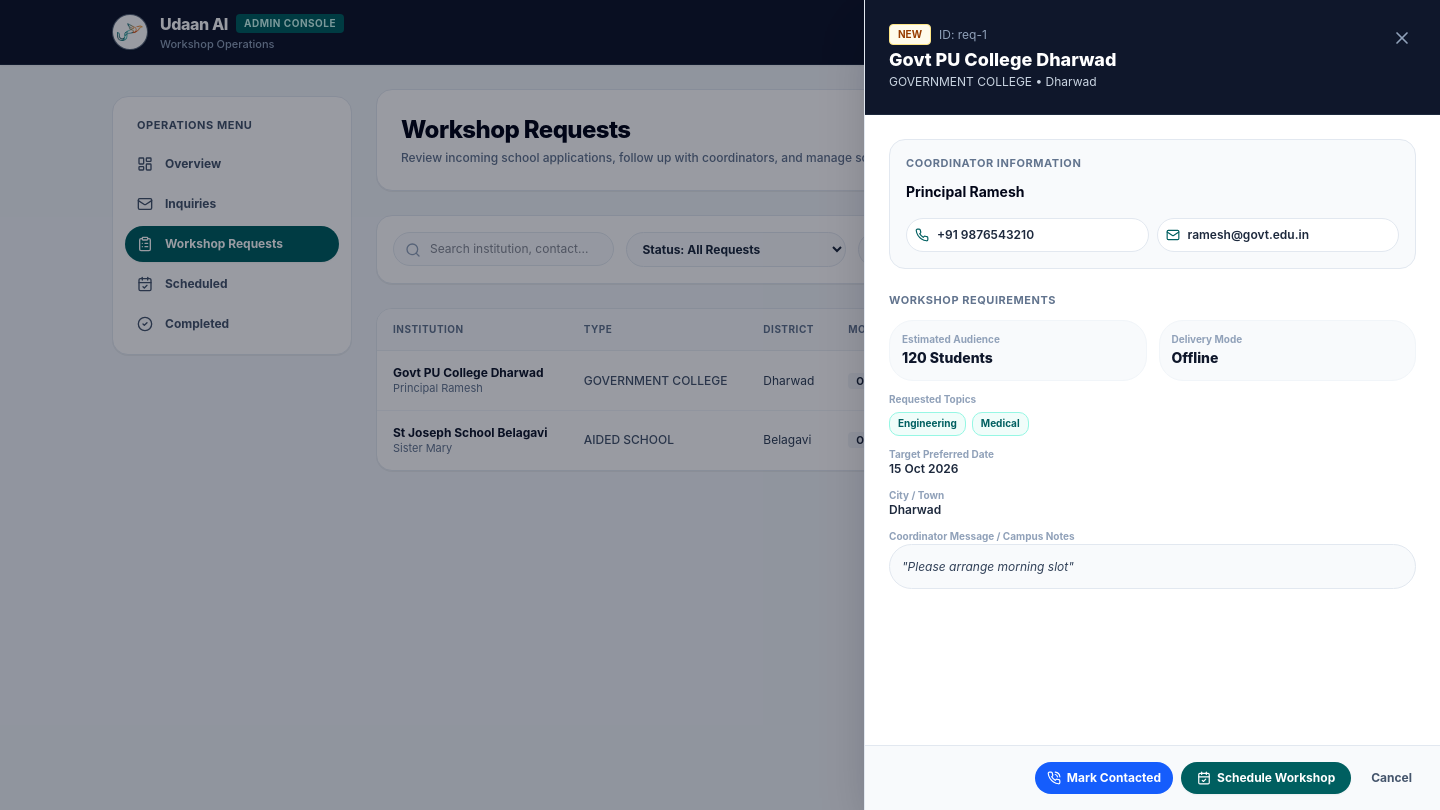
Test: AdminRequestsPage › ?open=<id> query resolution & drawer dismissal handling › with ?open=A, closing A then manually opening B must keep B open
Expected: the text "Coordinator Information" is shown, [906, 156, 1081, 170]
Expected: the text "Principal Ramesh" in the row of "1 Sept 2026" is shown, [393, 381, 483, 395]
Note: User closes req-1 (A)
Click the button named "close drawer": (1402, 38) [1388, 24, 1416, 52]
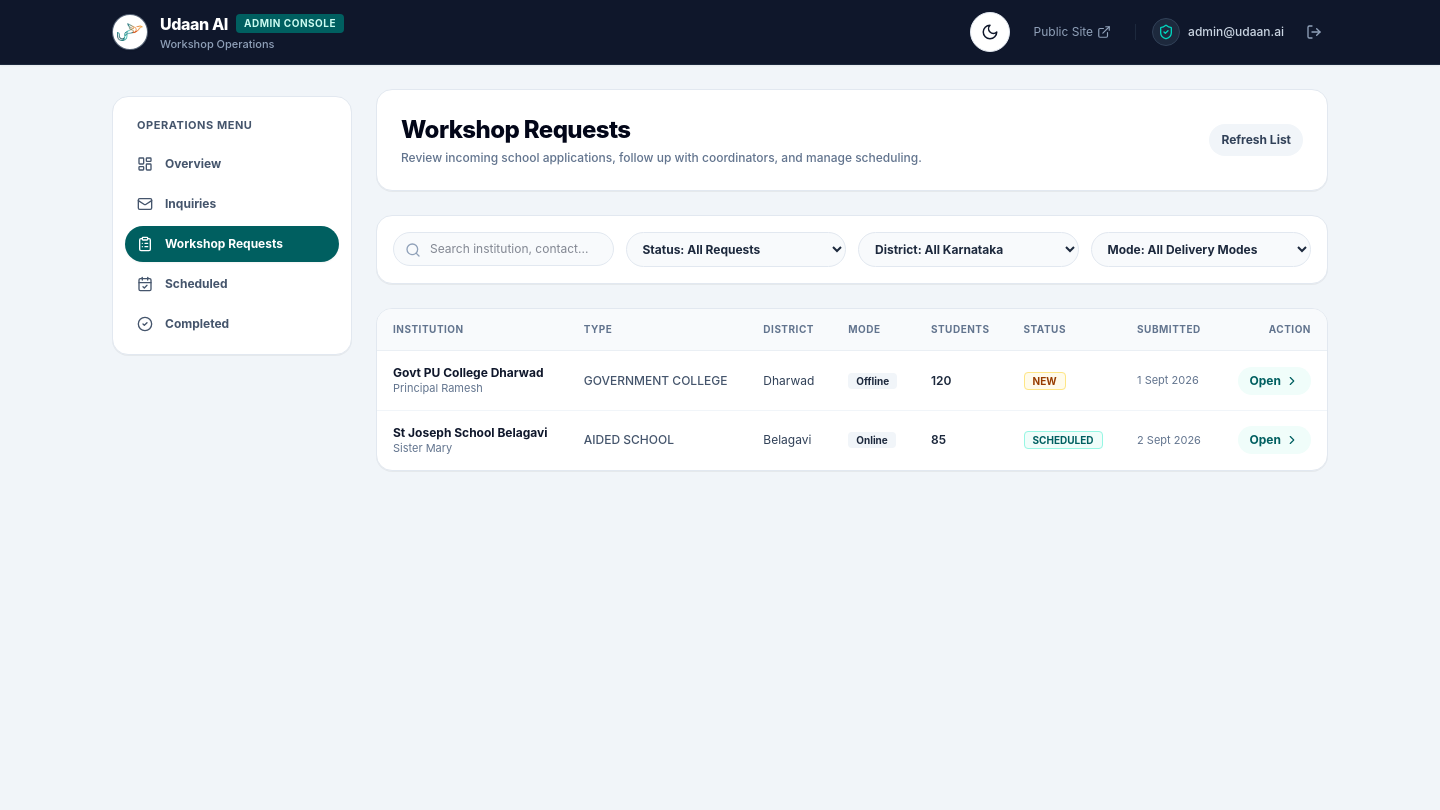
Expected: the text "Coordinator Information" is gone
Note: User manually opens req-2 (B) from table
Click the button "Open" in the row of "St Joseph School Belagavi": (1274, 440) [1238, 426, 1311, 454]
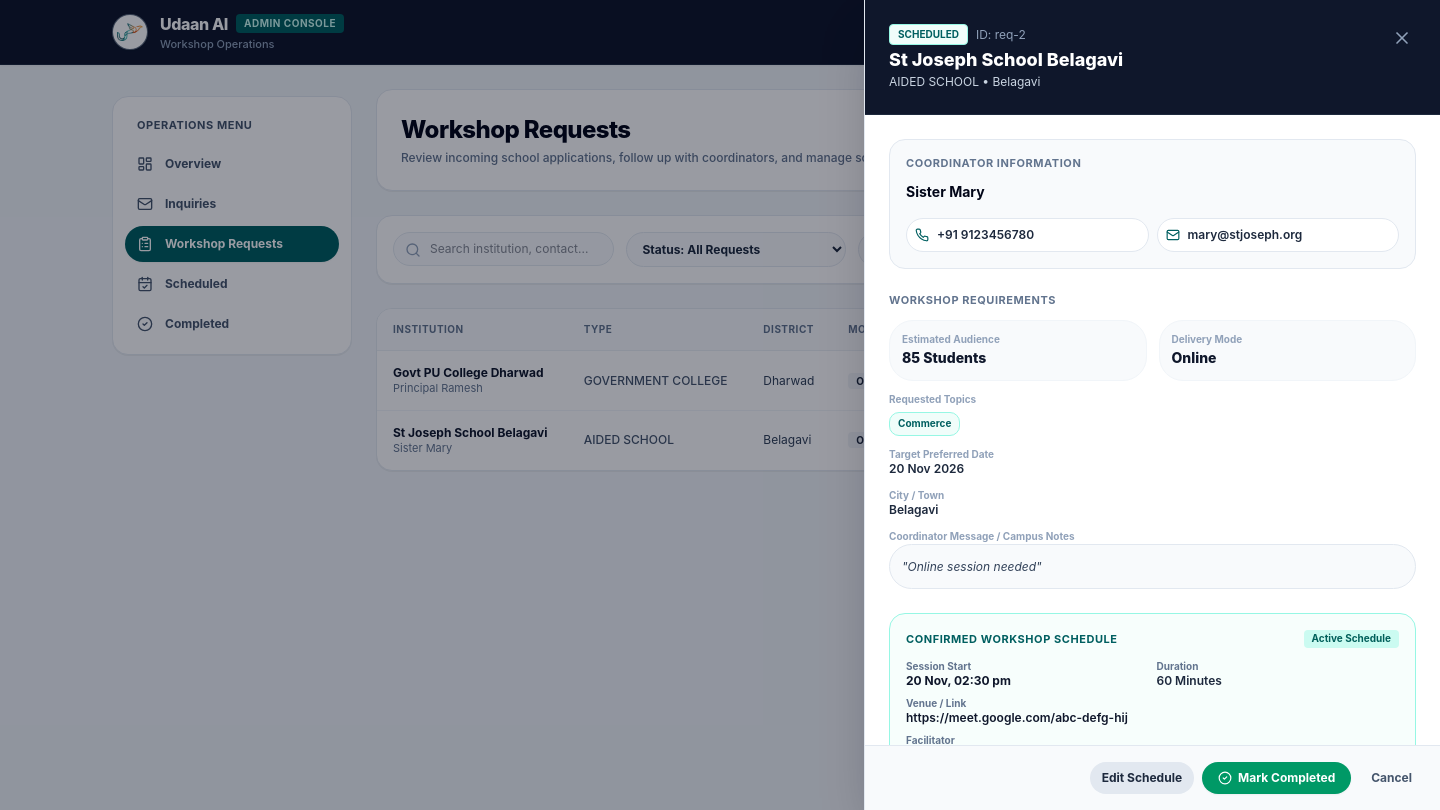
Expected: the text "Sister Mary" in the row of "2 Sept 2026" is shown, [393, 441, 452, 455]
Expected: the heading "St Joseph School Belagavi" is shown, [889, 49, 1123, 72]
